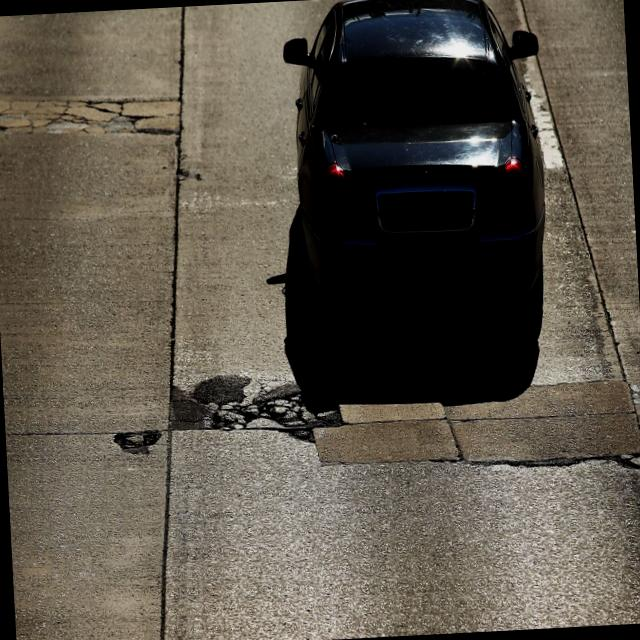bad-road: (166, 367, 345, 457), (0, 87, 182, 149), (112, 426, 164, 460)
